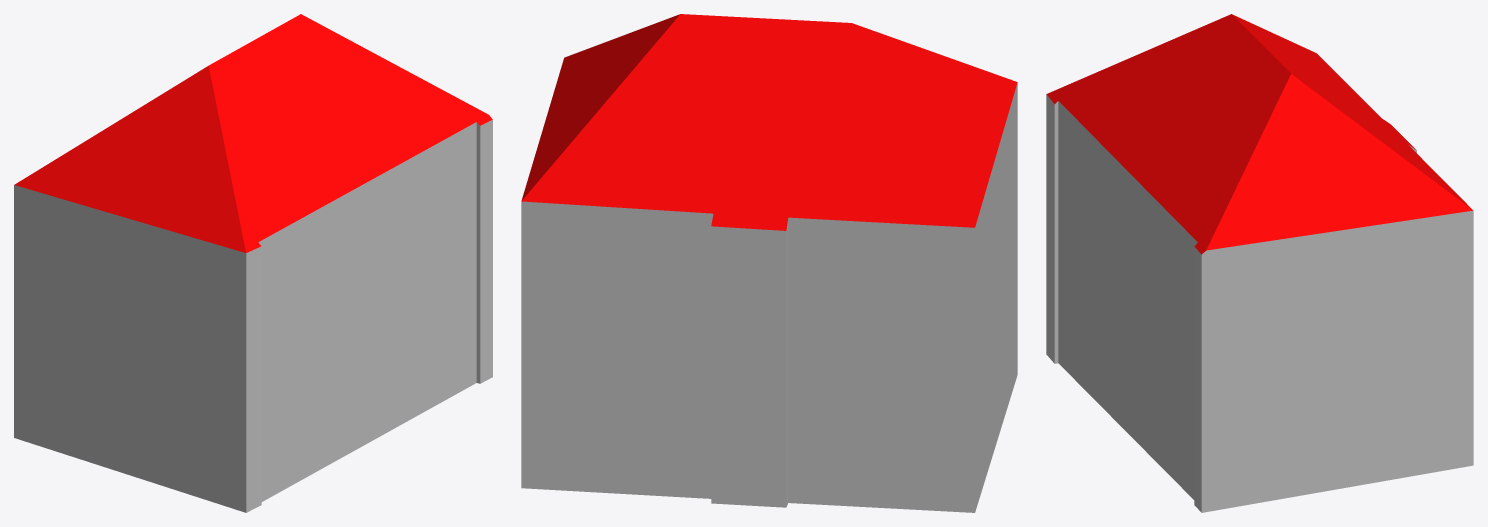
3 renders of one model, left to right at view 1: azimuth 30°, elevation 25°; view 2: azimuth 150°, elevation 25°; view 3: azimuth 270°, elevation 25°, orthographic. The views are drawn at different scales.
Size of the model in its own units: 18.24 by 15.16 by 15.97.
